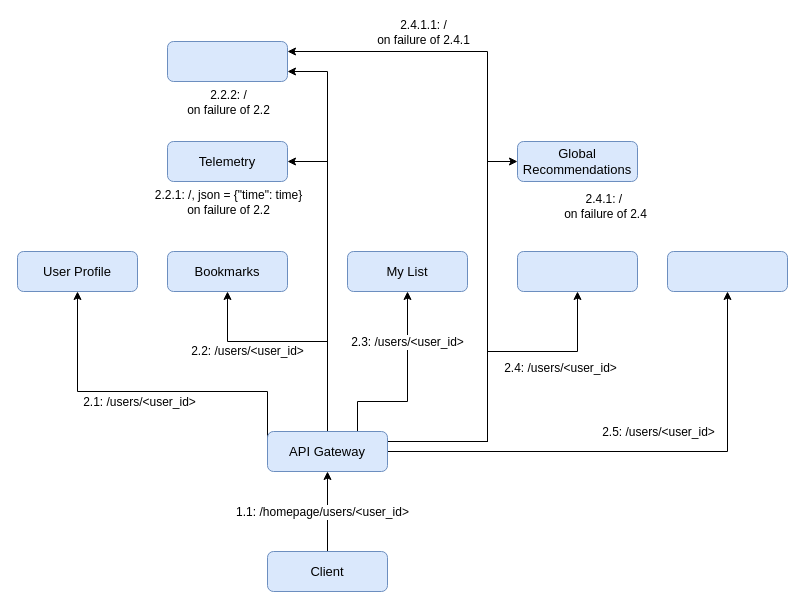
The diagram is 805 pixels wide and 609 high, and some of its shapes have lost their labels. Each missing label, with the centre of its shape:
"Ratings" goes at (727,271).
"Trending" goes at (227,61).
"User Recommendations" goes at (577,271).
